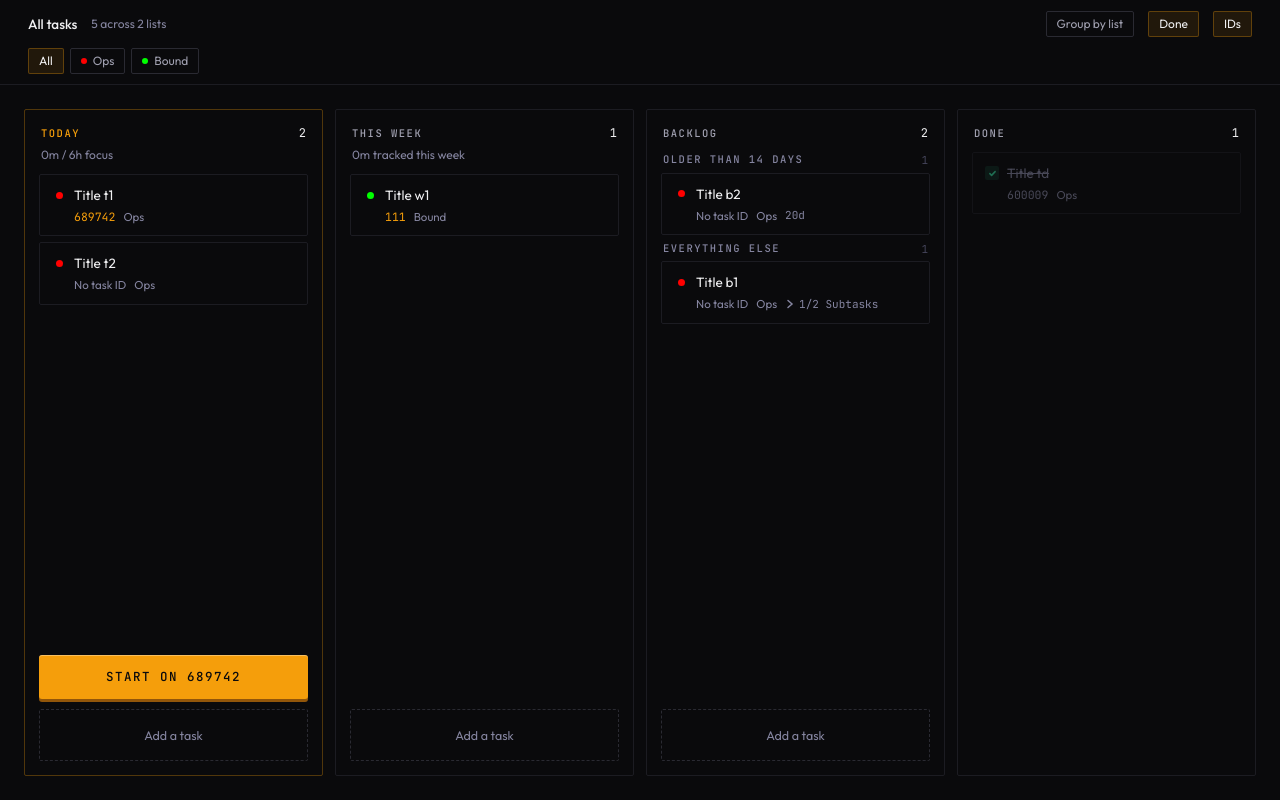
Test case: PlanBoard — all scope › IDs: shown without # by default (P11), hidden in all scope when toggled off, key written; stored false honoured
Expected: the text "689742" is shown, [74,208,115,225]
Expected: the 2nd text "No task ID" is shown, [74,276,126,294]
Click the button "IDs" at coordinates (1232, 24), box [1213,11,1252,37]
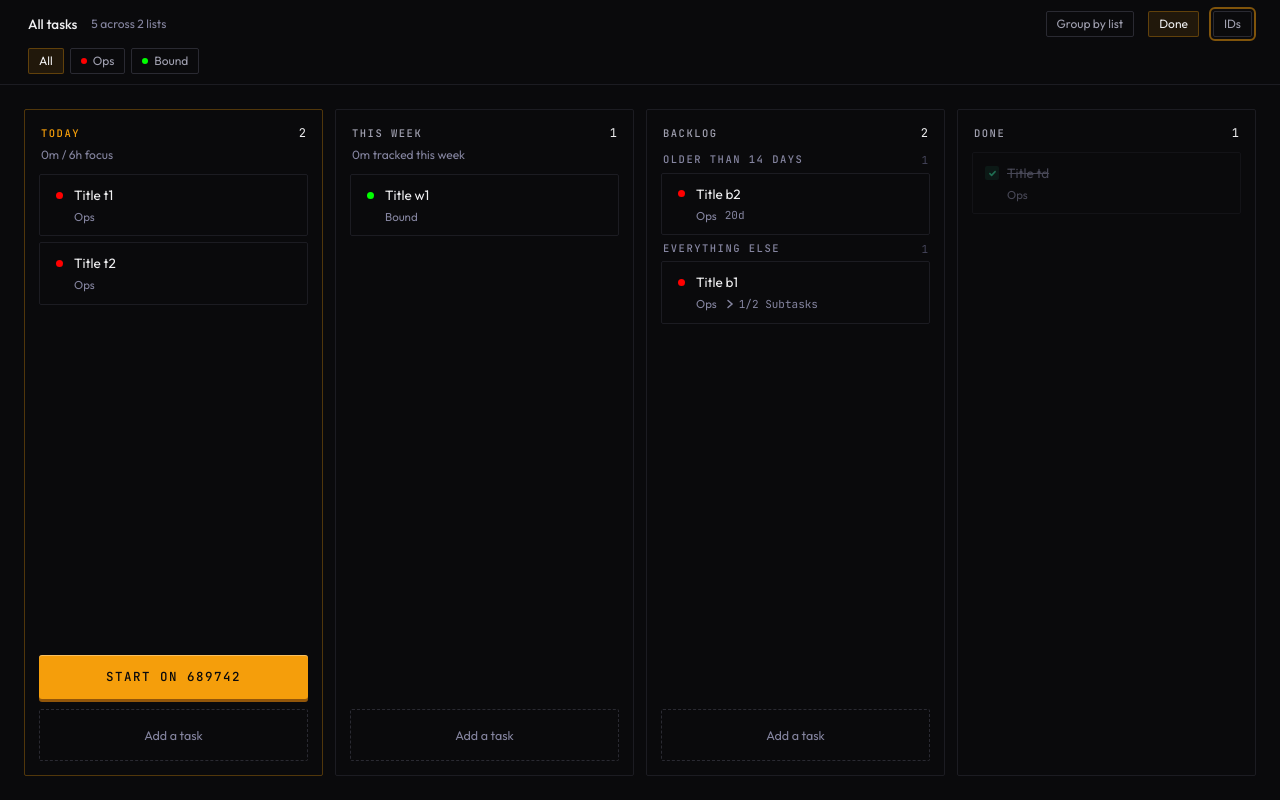
Expected: the text "No task ID" is gone
